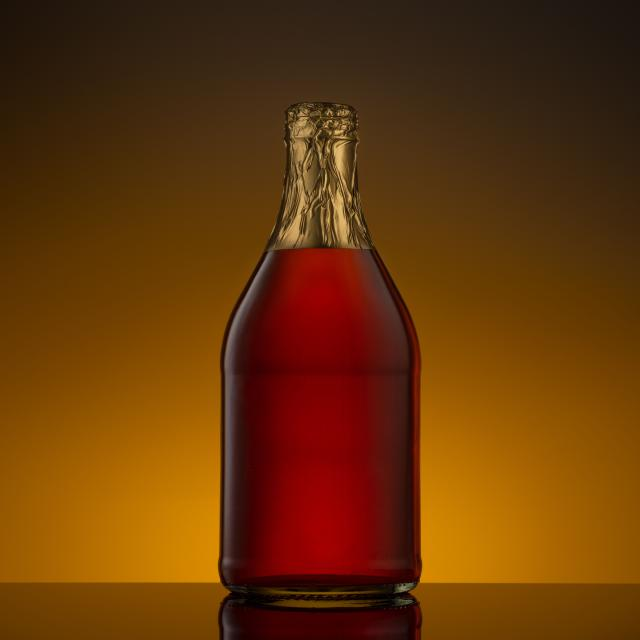Bottle: (220, 103, 421, 595), (219, 595, 422, 639)
